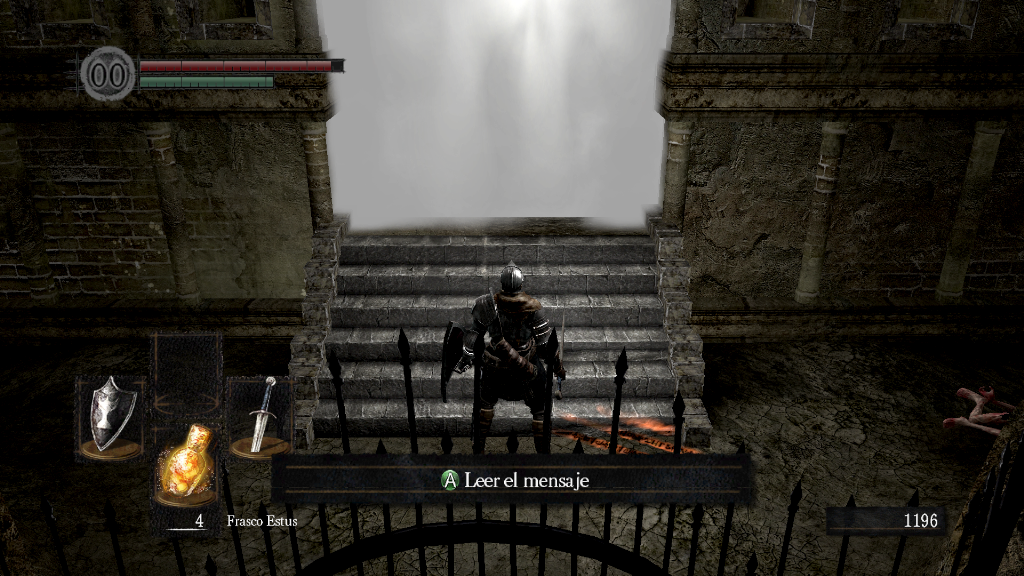dialogBox: (271, 454, 754, 504)
health: (138, 58, 343, 71)
humanity: (80, 45, 136, 102)
player: (438, 261, 568, 461)
souls: (825, 506, 945, 536)
stamina: (138, 74, 274, 88)
